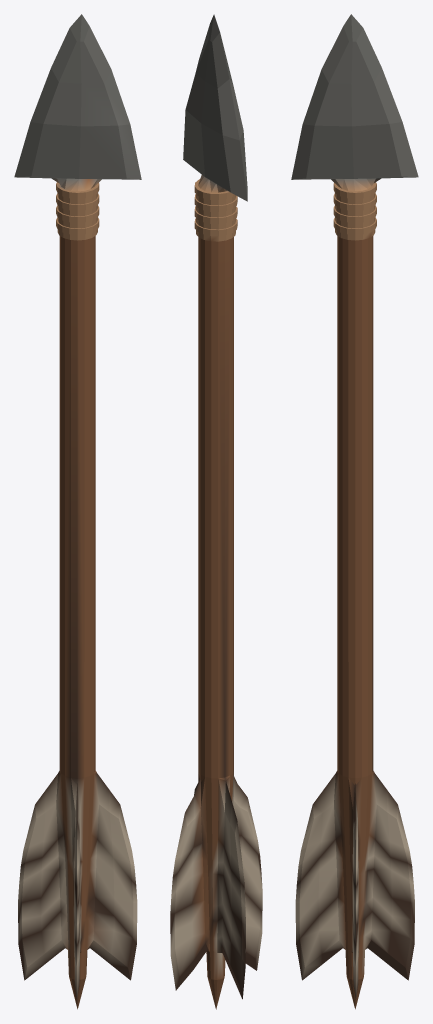
Rendered from arrow.fbx.
3 views of the same model, side by side, from view 1: azimuth 90°, elevation 25°; view 2: azimuth 210°, elevation 25°; view 3: azimuth 270°, elevation 25° (orthographic).
Visible parts, largest first — view 1: Plane.001; view 2: Plane.001; view 3: Plane.001.
Part boxes in pixels (<box>): Plane.001: <box>14,14,141,1009</box>; Plane.001: <box>170,14,262,1009</box>; Plane.001: <box>291,14,418,1009</box>.
Size of the model in its own units: 43.53 by 448 by 51.98.
